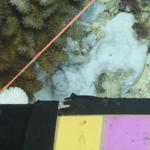alive: (13, 11, 146, 146)
